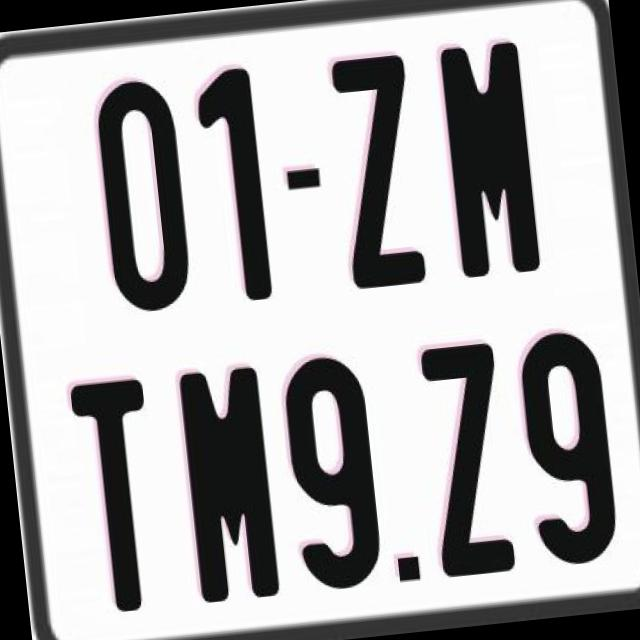0: (88, 73, 190, 314)
1: (192, 65, 276, 307)
9: (278, 350, 386, 594), (513, 323, 620, 568)
M: (173, 365, 284, 613), (436, 40, 546, 278)
T: (66, 372, 168, 619)
Z: (415, 338, 517, 582), (329, 52, 431, 288)
